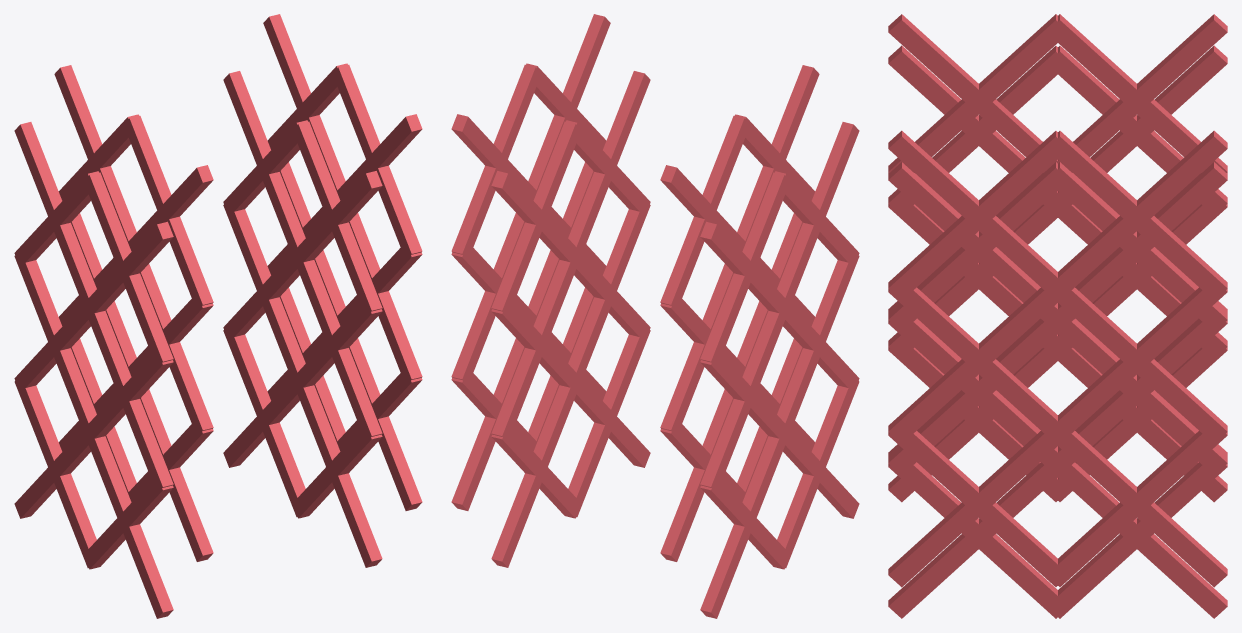
File: body.glb
3 renders of one model, left to right at view 1: azimuth 30°, elevation 25°; view 2: azimuth 150°, elevation 25°; view 3: azimuth 270°, elevation 25°, orthographic. The views are drawn at different scales.
Visible parts, largest first — view 1: Cube; view 2: Cube; view 3: Cube.
Part boxes in pixels (x1,y1,x2,y2): Cube: [14, 14, 422, 618]; Cube: [451, 14, 859, 618]; Cube: [888, 14, 1227, 618].
Size of the model in its own units: 2.6 by 4.23 by 2.58.
